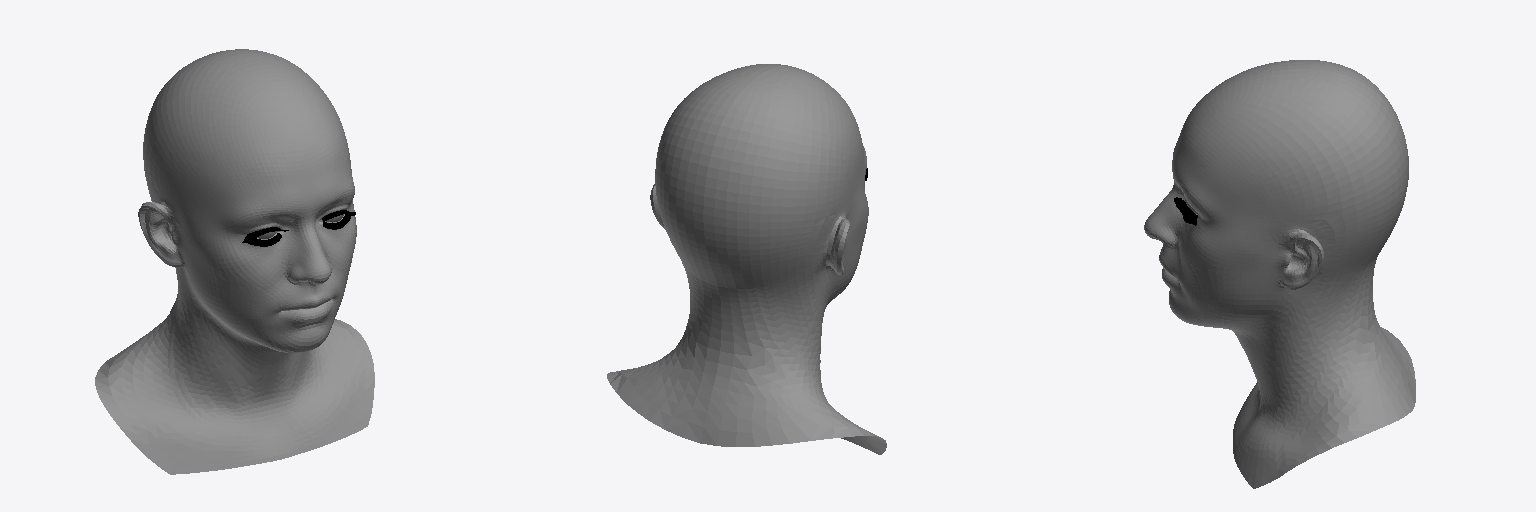
Rendered from identity094.obj.
The picture shows the model from 3 angles: view 1: azimuth 30°, elevation 25°; view 2: azimuth 150°, elevation 25°; view 3: azimuth 270°, elevation 25°; orthographic projection.
Size of the model in its own units: 24.84 by 33.82 by 22.29.